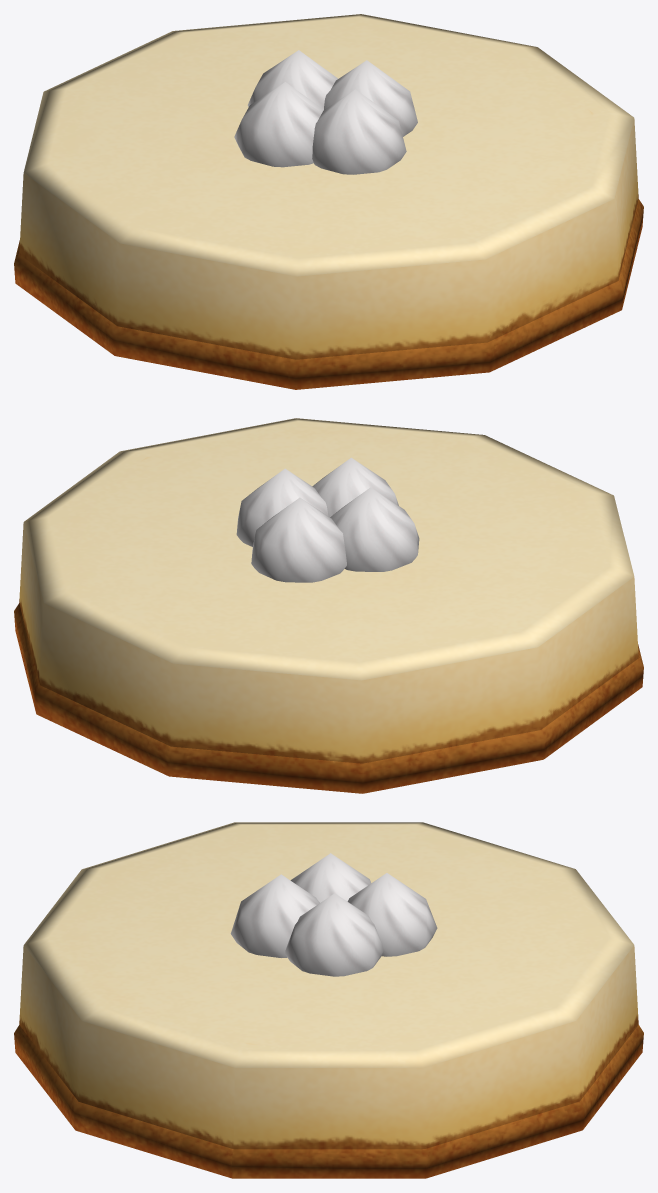
Rendered from Plain_Cheesecake_Whole.fbx.
3 views of the same model, one above another, from view 1: azimuth 30°, elevation 25°; view 2: azimuth 150°, elevation 25°; view 3: azimuth 270°, elevation 25° (orthographic). The views are drawn at different scales.
Parts seen in each view (by area): view 1: Plain_Cheesecake_Whole; view 2: Plain_Cheesecake_Whole; view 3: Plain_Cheesecake_Whole.
Boxes of the visible parts, left/top/right/bottom form: Plain_Cheesecake_Whole: left=14, top=14, right=643, bottom=389; Plain_Cheesecake_Whole: left=14, top=418, right=643, bottom=793; Plain_Cheesecake_Whole: left=14, top=822, right=643, bottom=1178.
Bounding box in the file's own units: 80 × 26.48 × 84.09.
